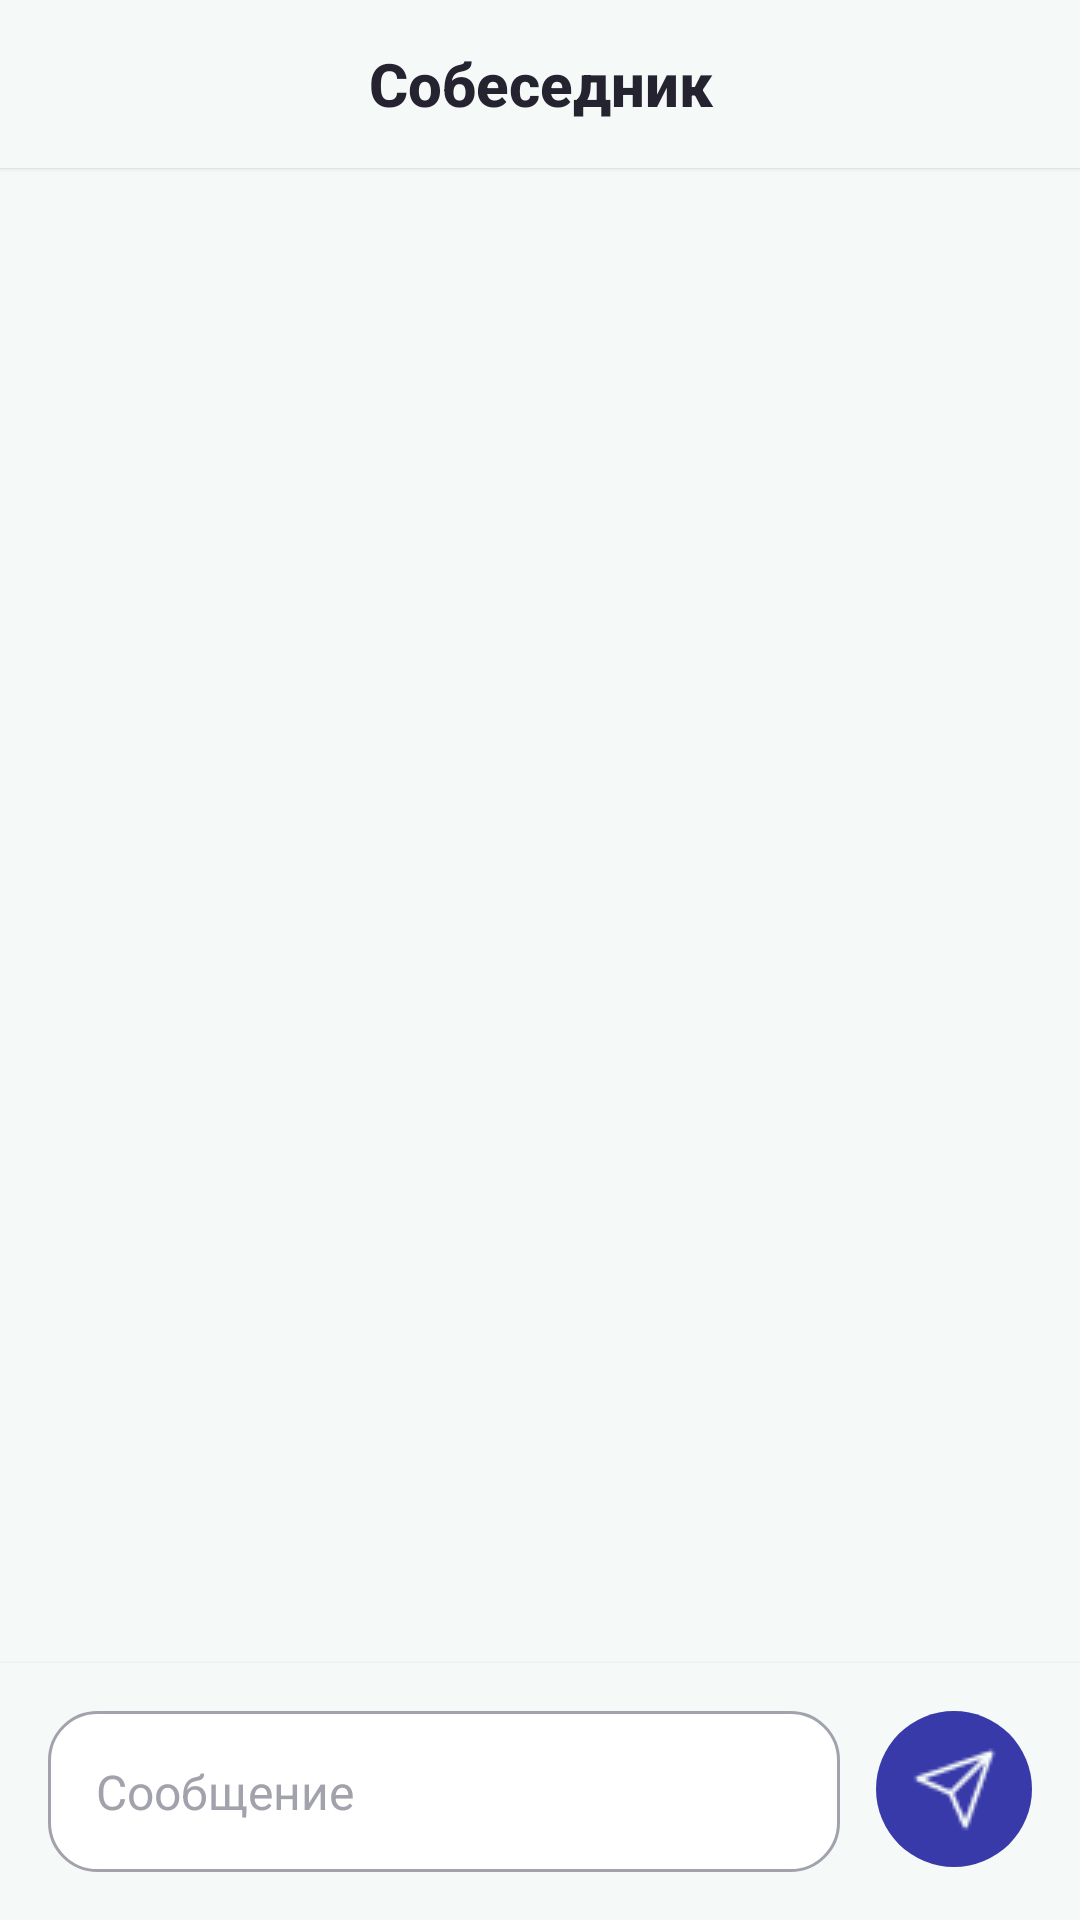

Icon bounding boxes for this 1080px×1920px phone screenshot, format BBox(x1, y1, x2, y2):
Отправить: BBox(876, 1711, 1032, 1867)
